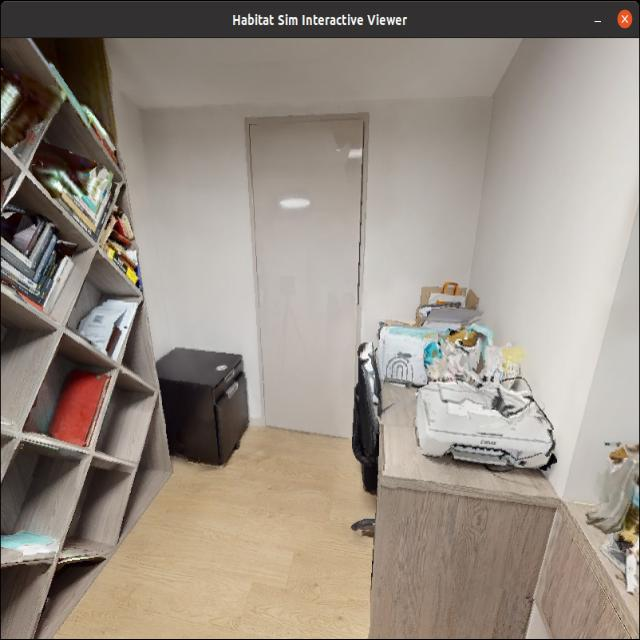door: (248, 125, 371, 441)
table: (370, 327, 544, 640)
